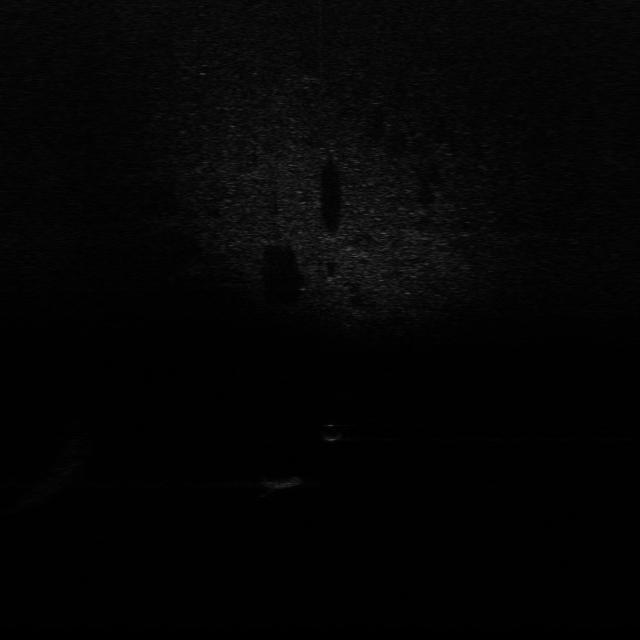ball: (316, 420, 350, 445)
square cage: (258, 471, 316, 490)
